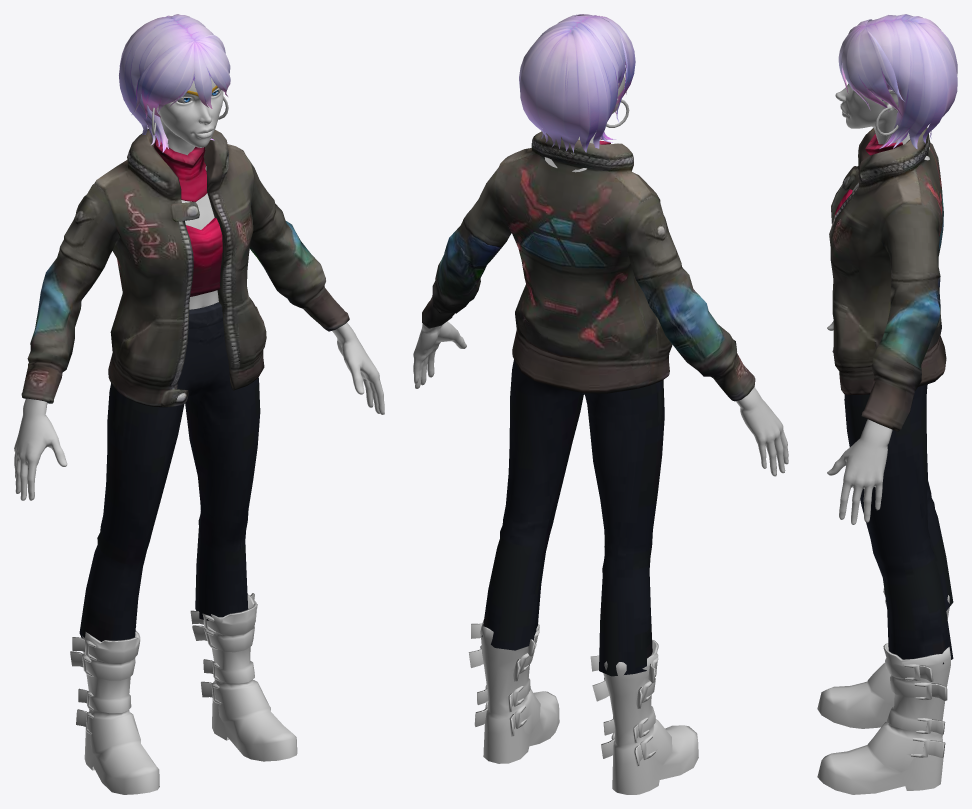
File: W Character 22.fbx
3 renders of one model, left to right at view 1: azimuth 30°, elevation 25°; view 2: azimuth 150°, elevation 25°; view 3: azimuth 270°, elevation 25°, orthographic.
Visible parts, largest first — view 1: Wolf3D_Outfit_Top.009, Wolf3D_Outfit_Bottom.018, Wolf3D_Outfit_Footwear.011, w hair 5, body.001, head, body.002; view 2: Wolf3D_Outfit_Top.009, Wolf3D_Outfit_Bottom.018, Wolf3D_Outfit_Footwear.011, w hair 5, body.001; view 3: Wolf3D_Outfit_Top.009, Wolf3D_Outfit_Bottom.018, Wolf3D_Outfit_Footwear.011, w hair 5, body.001, head.
Boxes of the visible parts, bbox=[...] form: Wolf3D_Outfit_Top.009: bbox=[21, 129, 349, 407]; Wolf3D_Outfit_Bottom.018: bbox=[79, 302, 260, 641]; Wolf3D_Outfit_Footwear.011: bbox=[70, 593, 297, 794]; w hair 5: bbox=[119, 14, 230, 152]; body.001: bbox=[14, 322, 384, 500]; head: bbox=[147, 76, 223, 155]; body.002: bbox=[181, 166, 218, 309]; Wolf3D_Outfit_Top.009: bbox=[422, 131, 755, 401]; Wolf3D_Outfit_Bottom.018: bbox=[481, 360, 664, 676]; Wolf3D_Outfit_Footwear.011: bbox=[468, 620, 698, 794]; w hair 5: bbox=[519, 14, 635, 152]; body.001: bbox=[413, 321, 788, 476]; Wolf3D_Outfit_Top.009: bbox=[829, 127, 946, 431]; Wolf3D_Outfit_Bottom.018: bbox=[844, 384, 953, 664]; Wolf3D_Outfit_Footwear.011: bbox=[817, 588, 950, 794]; w hair 5: bbox=[838, 14, 957, 148]; body.001: bbox=[827, 321, 892, 524]; head: bbox=[835, 83, 929, 160].
Bounding box in the file's own units: 96.47 × 188 × 32.62.
